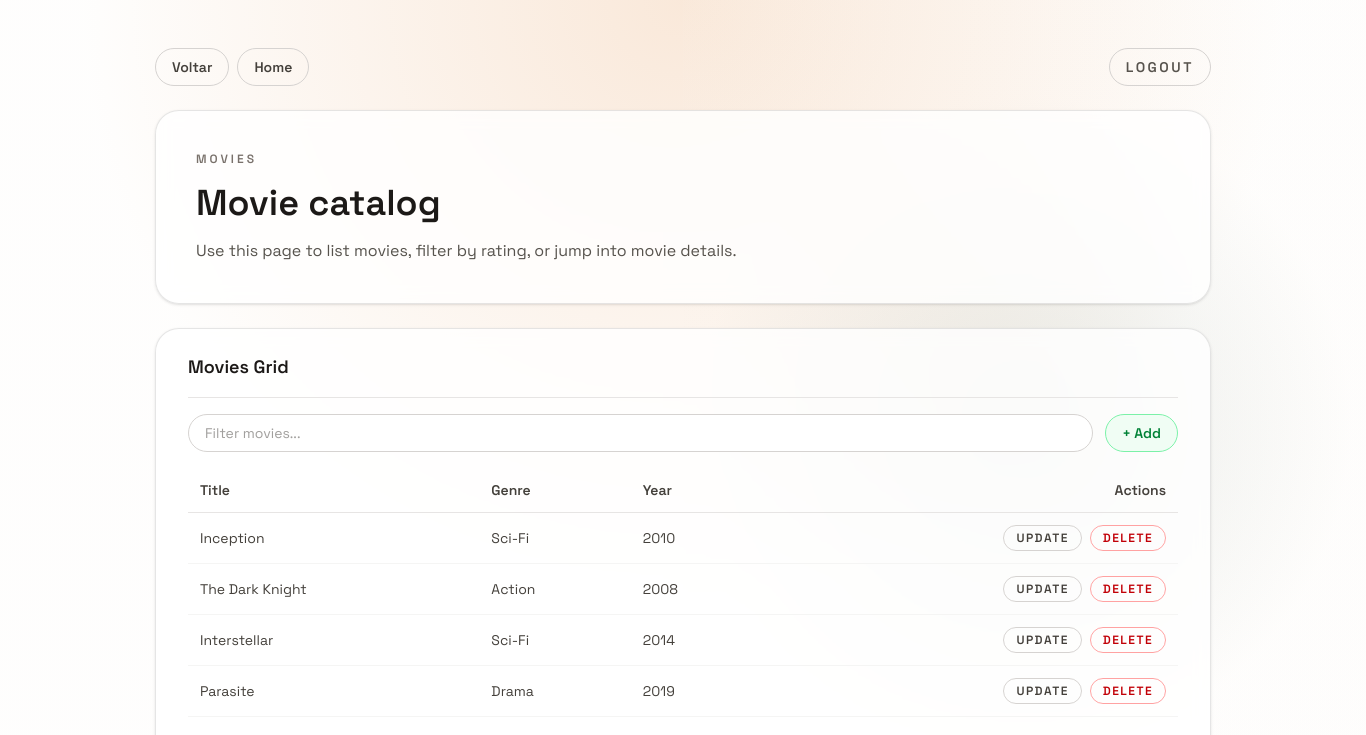
Test case: MoviesPage › shows related grids when a movie is selected
Click the text "Inception" at (232, 538), box x1=188 y1=512 x2=479 y2=564
(page scrolled)
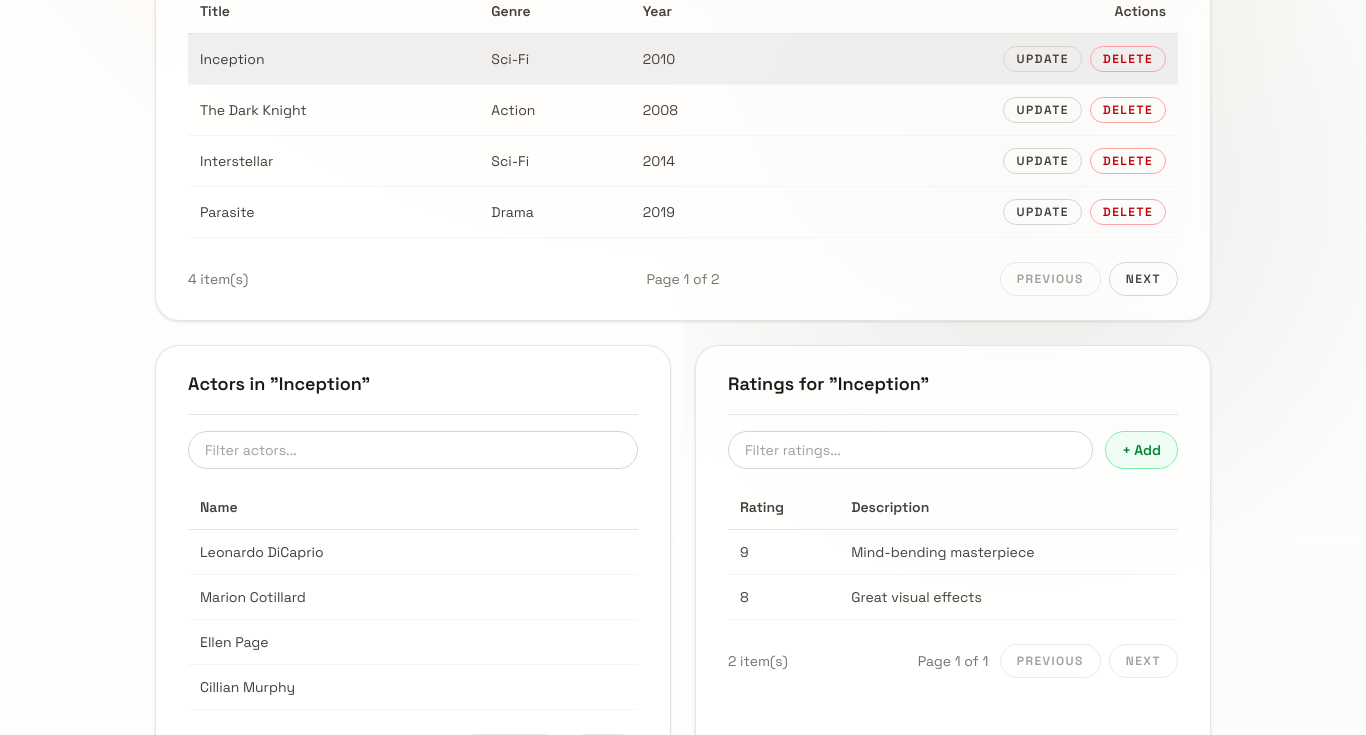
Now the heading "Actors in \"Inception\"" is shown, box x1=188 y1=372 x2=370 y2=395
Now the heading "Ratings for \"Inception\"" is shown, box x1=728 y1=372 x2=929 y2=395
